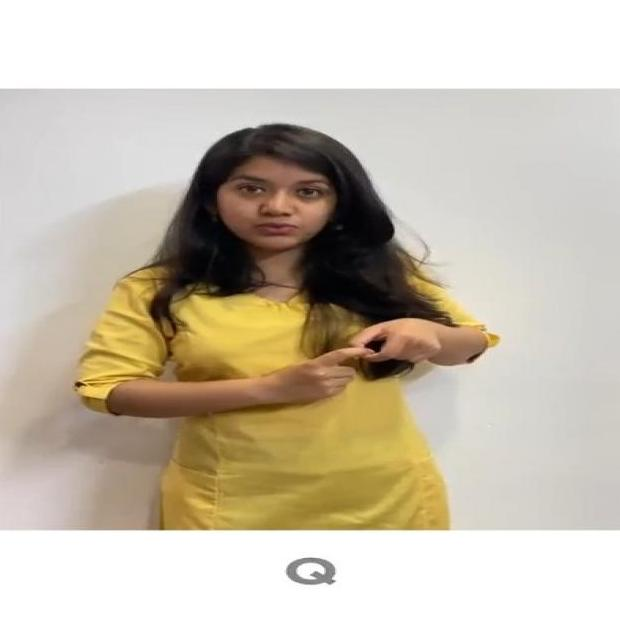P: (251, 315, 460, 410)
